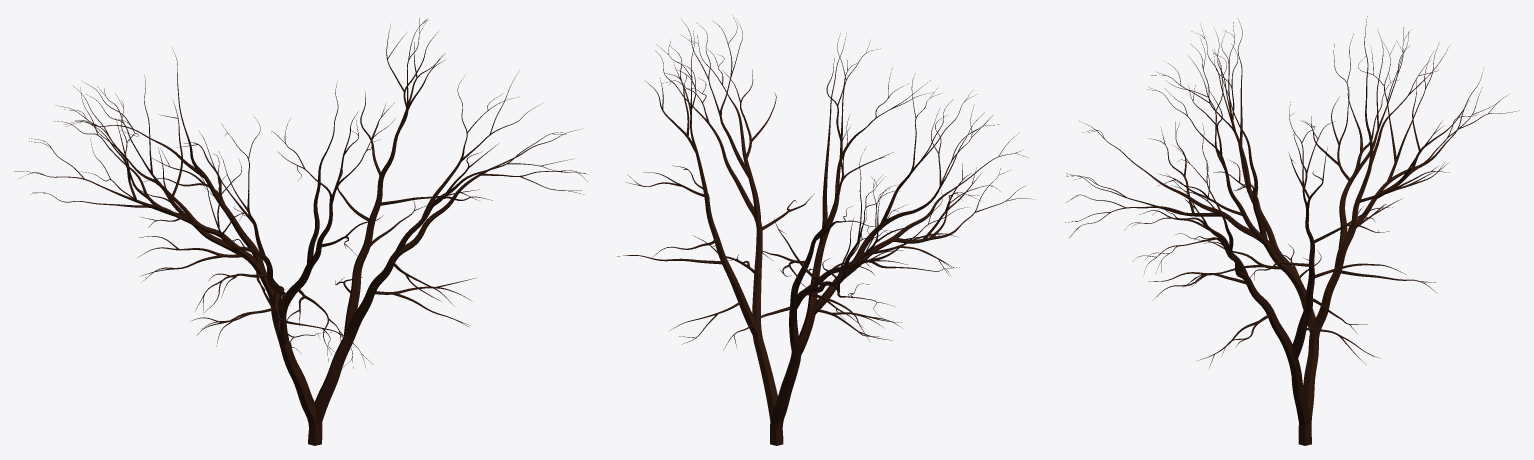
Rendered from dryPurpleTree.fbx.
3 renders of one model, left to right at view 1: azimuth 30°, elevation 25°; view 2: azimuth 150°, elevation 25°; view 3: azimuth 270°, elevation 25°, orthographic. The views are drawn at different scales.
Parts seen in each view (by area): view 1: dryPurpleTree; view 2: dryPurpleTree; view 3: dryPurpleTree.
Boxes of the visible parts, left/top/right/bottom form: dryPurpleTree: left=14, top=18, right=588, bottom=445; dryPurpleTree: left=617, top=15, right=1035, bottom=445; dryPurpleTree: left=1065, top=16, right=1519, bottom=445.
Size of the model in its own units: 552 by 492 by 526.
